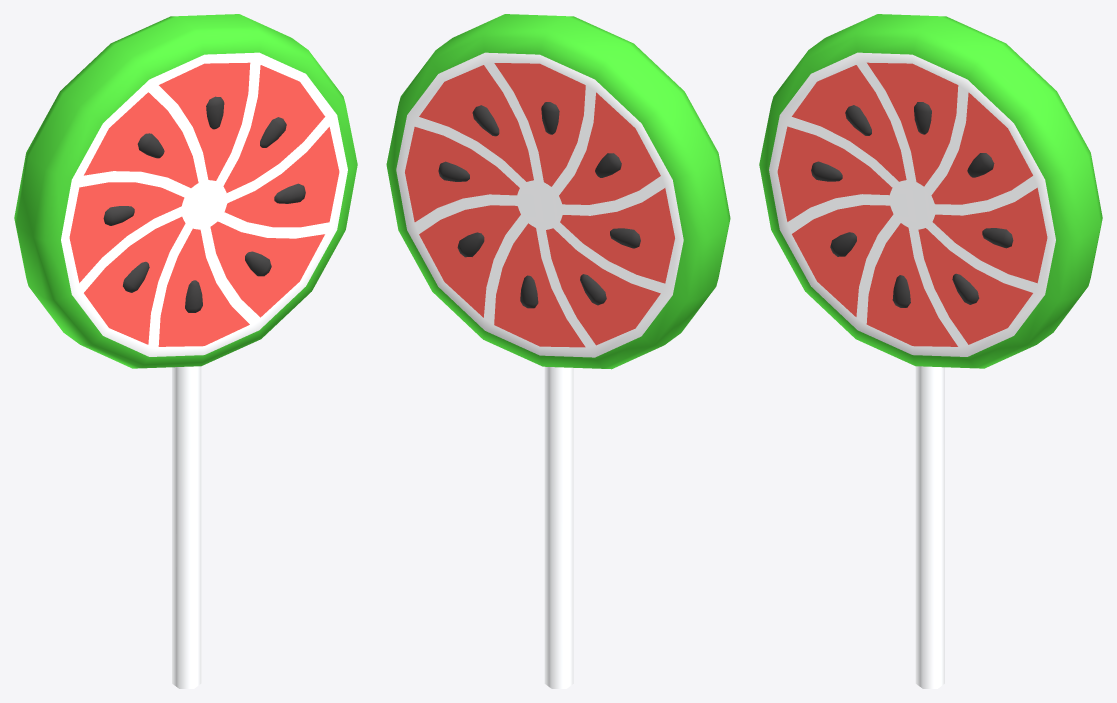
Rendered from Lollipop_18.glb.
3 views of the same model, side by side, from view 1: azimuth 30°, elevation 25°; view 2: azimuth 150°, elevation 25°; view 3: azimuth 330°, elevation 25° (orthographic).
Parts seen in each view (by area): view 1: Lollipop_18; view 2: Lollipop_18; view 3: Lollipop_18.
Boxes of the visible parts, box(x1,y1,x2,y2) form: Lollipop_18: box(14, 14, 357, 688); Lollipop_18: box(386, 14, 730, 688); Lollipop_18: box(759, 14, 1102, 688).
Size of the model in its own units: 2.88 by 5.63 by 0.6702.
1 material, 1 textured.
